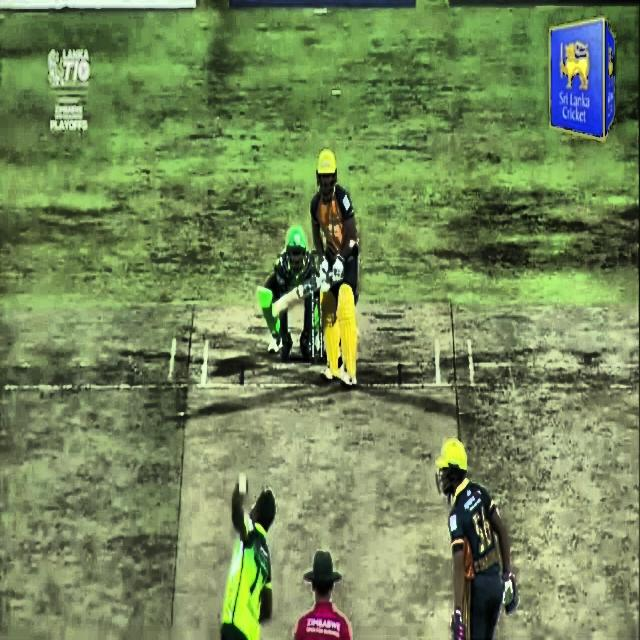Left-stump: (312, 291, 314, 358)
Middle-stump: (319, 299, 323, 359)
